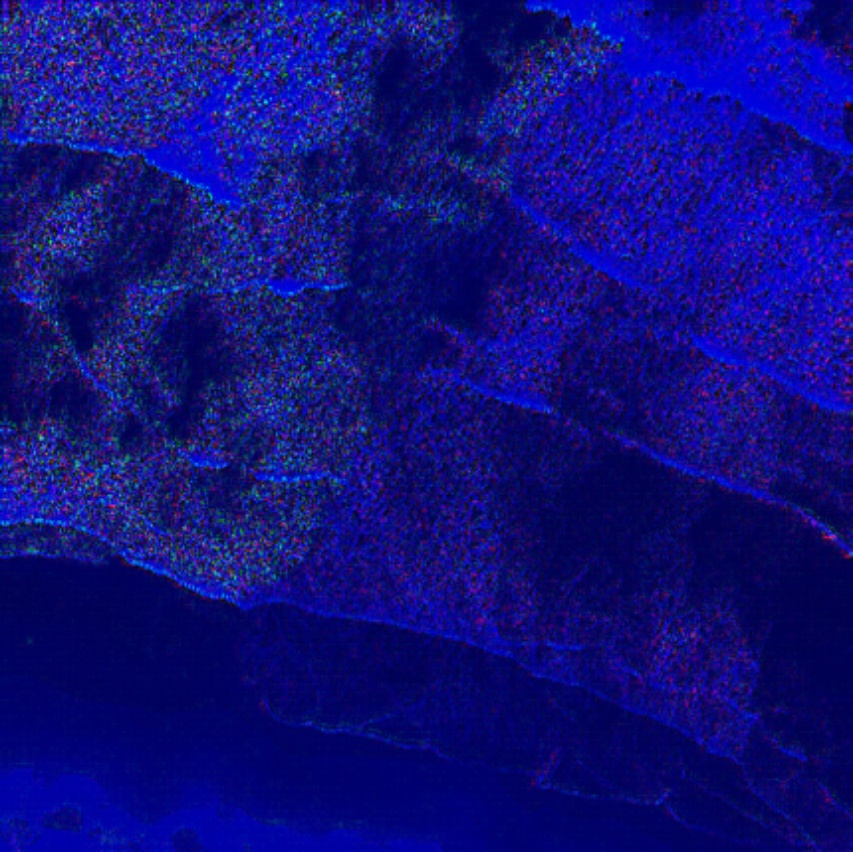rip_current: (281, 30, 646, 617)
